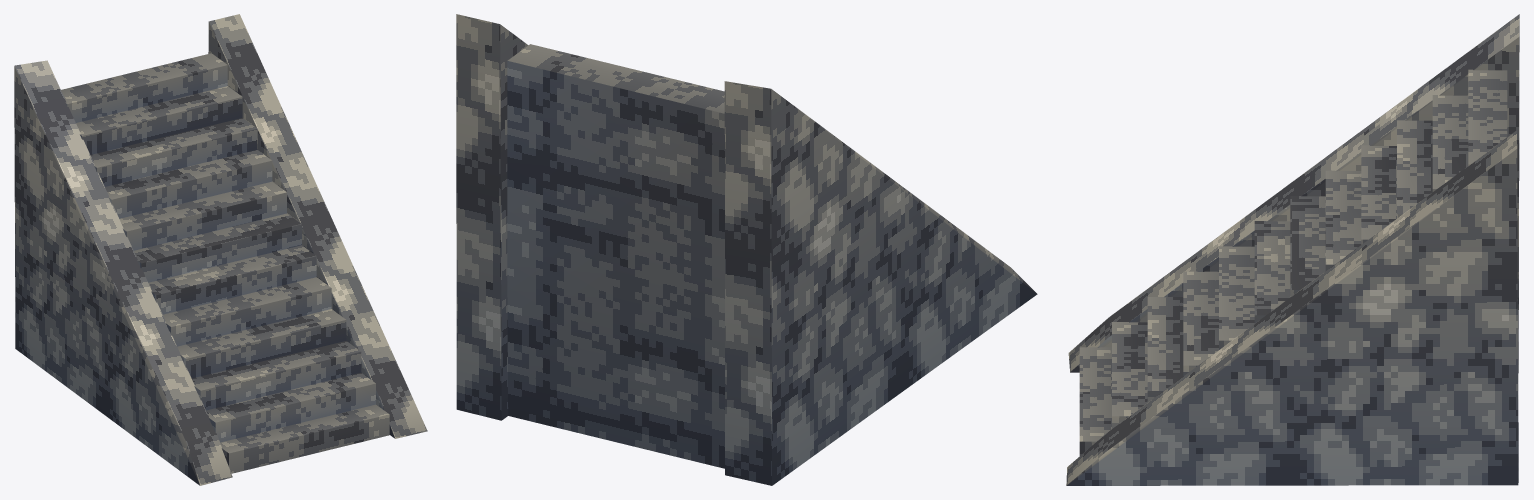
File: vlg.stairs__tall.glb
The picture shows the model from 3 angles, left to right: view 1: azimuth 30°, elevation 25°; view 2: azimuth 150°, elevation 25°; view 3: azimuth 270°, elevation 25°; orthographic projection. The views are drawn at different scales.
Parts seen in each view (by area): view 1: kit_stair, kit_sides; view 2: kit_sides, kit_stair; view 3: kit_sides, kit_stair.
Boxes of the visible parts, x1,y1,x2,y2 form: kit_stair: (61,53,389,473); kit_sides: (14,14,427,485); kit_sides: (456,14,1037,485); kit_stair: (507,44,724,468); kit_sides: (1066,14,1519,485); kit_stair: (1079,69,1507,455).
Bounding box in the file's own units: 2.82 × 3.37 × 4.07.
Materials: 2 (2 with a texture image).
